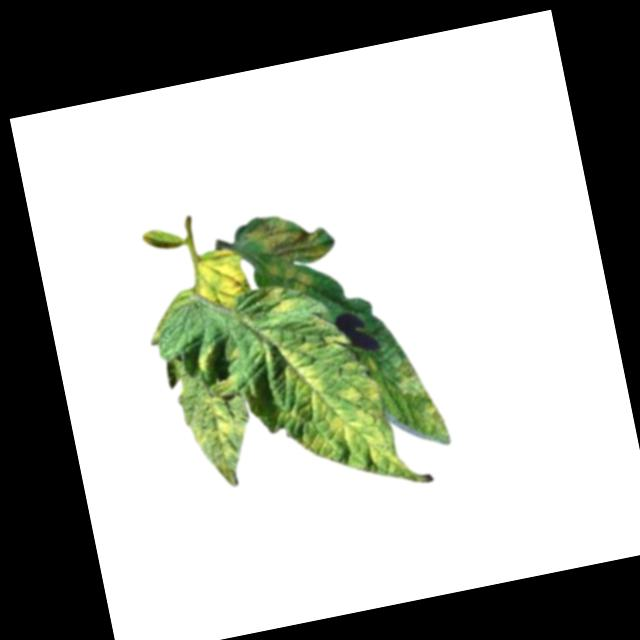Leaf_Mold: (249, 279, 405, 510), (173, 365, 261, 496), (237, 207, 335, 302), (387, 353, 451, 452), (182, 243, 251, 320)
